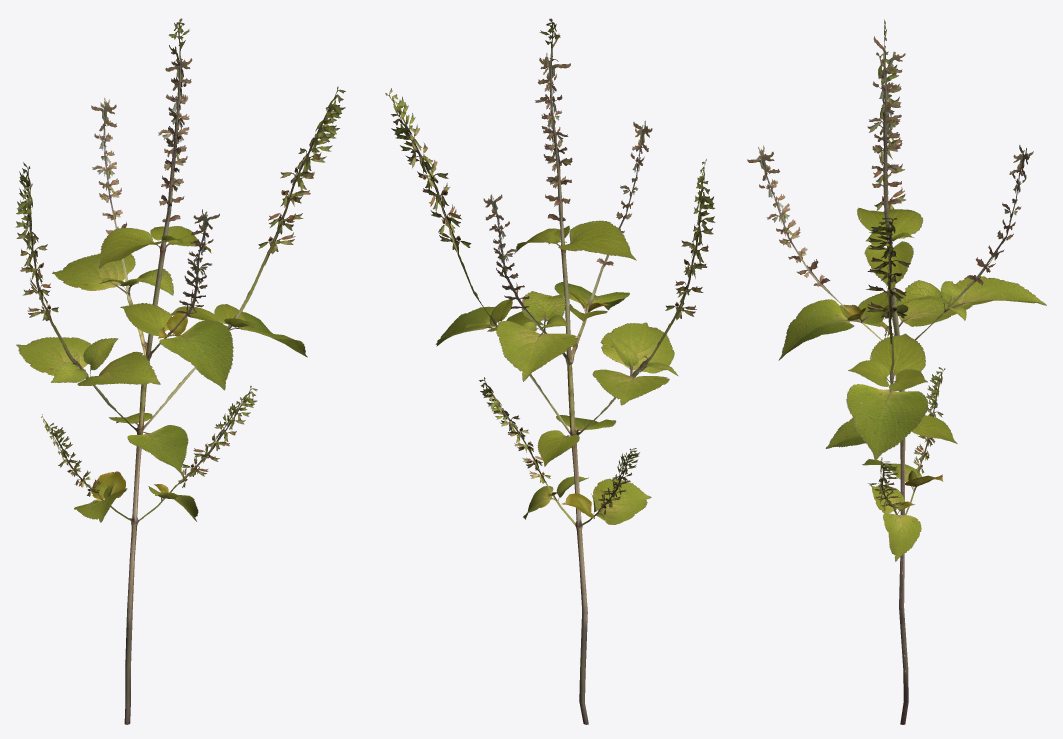
File: shrub-03-a.glb
3 views of the same model, side by side, from view 1: azimuth 30°, elevation 25°; view 2: azimuth 150°, elevation 25°; view 3: azimuth 270°, elevation 25° (orthographic). The views are drawn at different scales.
Parts seen in each view (by area): view 1: shrub_03_a; view 2: shrub_03_a; view 3: shrub_03_a.
Part boxes in pixels (x1,y1,x2,y2): shrub_03_a: (15, 18, 345, 724); shrub_03_a: (385, 18, 715, 724); shrub_03_a: (747, 19, 1046, 724).
Bounding box in the file's own units: 0.2006 × 0.4028 × 0.1512.
Materials: 1 (1 with a texture image).
